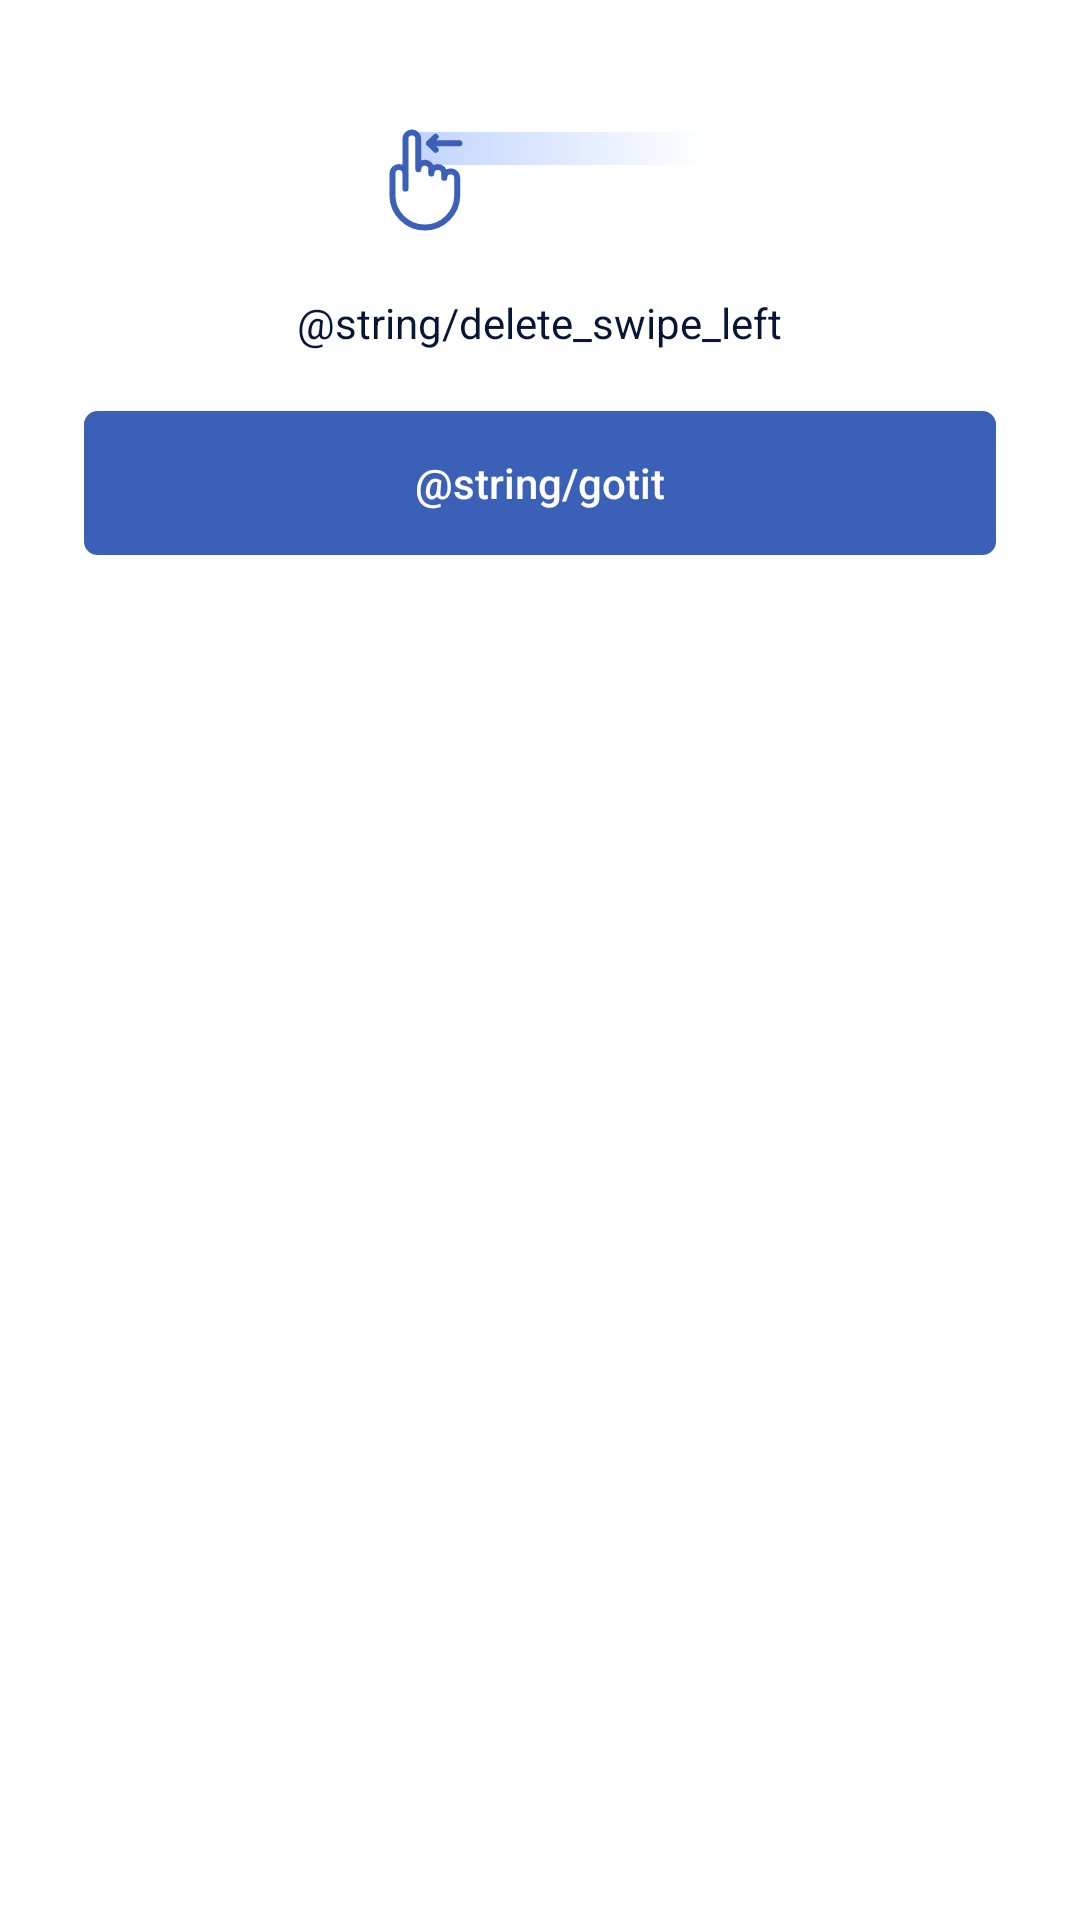

Where icons sit on this 1080×1920 app screen, as (x1, y1, x2, y2):
hand one finger: (389, 129, 590, 231)
